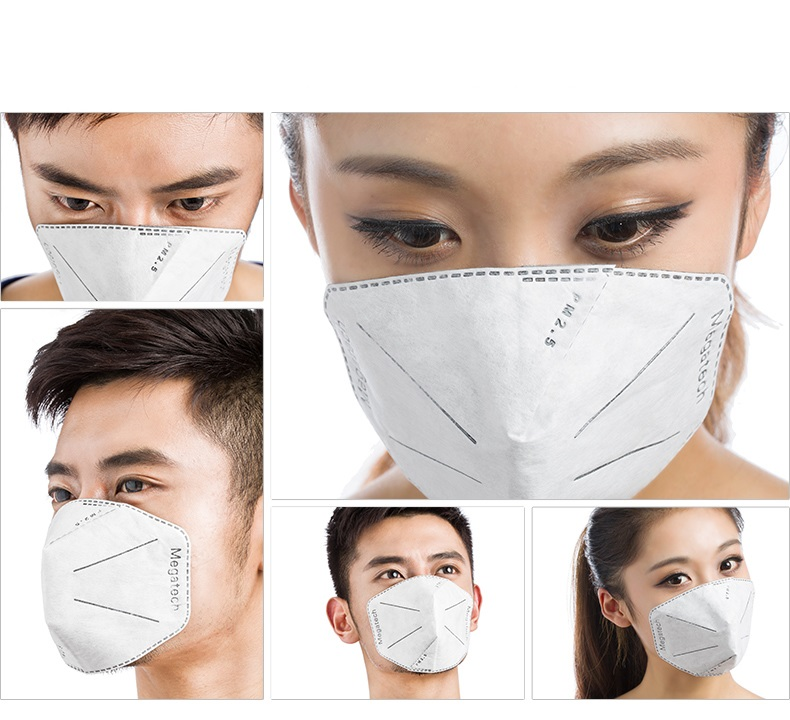face_mask: (301, 39, 753, 529), (18, 94, 262, 346), (38, 378, 247, 654), (622, 505, 752, 669), (348, 511, 473, 671)
